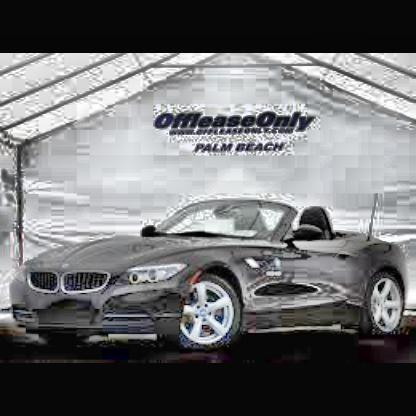BMW Z4 Convertible 2012: (14, 199, 412, 355)
